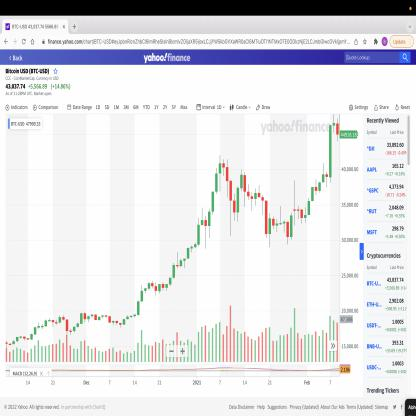Bullish: 3 White Soldiers: (207, 165, 218, 240), (293, 211, 318, 243)
